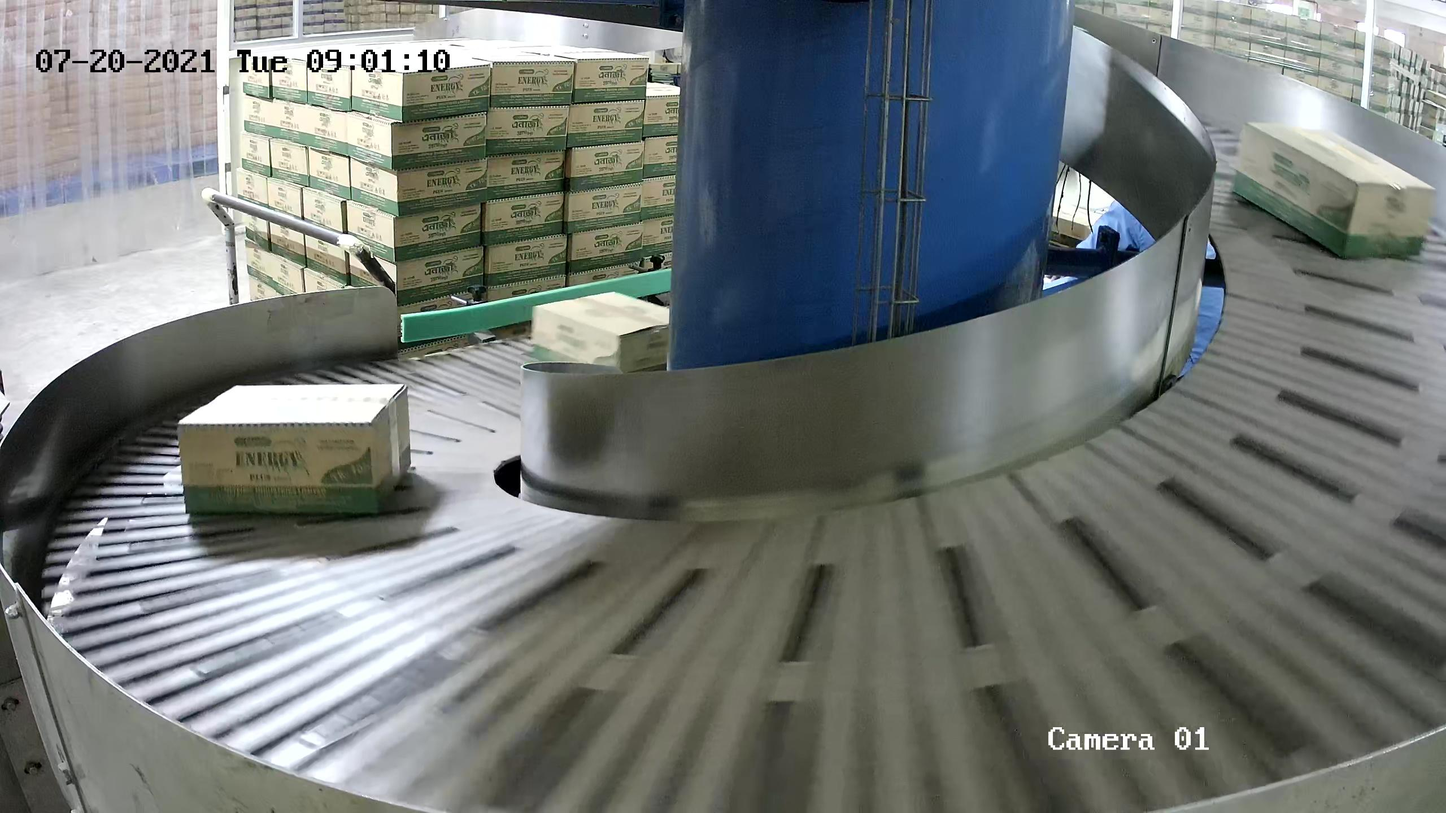Box: (175, 382, 412, 516), (1231, 120, 1436, 257), (531, 290, 669, 378)
